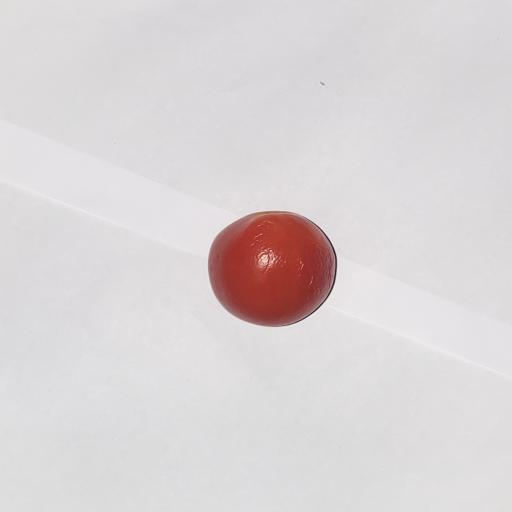spoiled: (208, 212, 336, 326)
